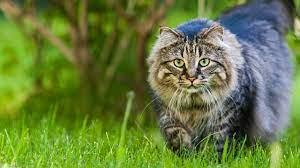Cat: (158, 24, 226, 89)
